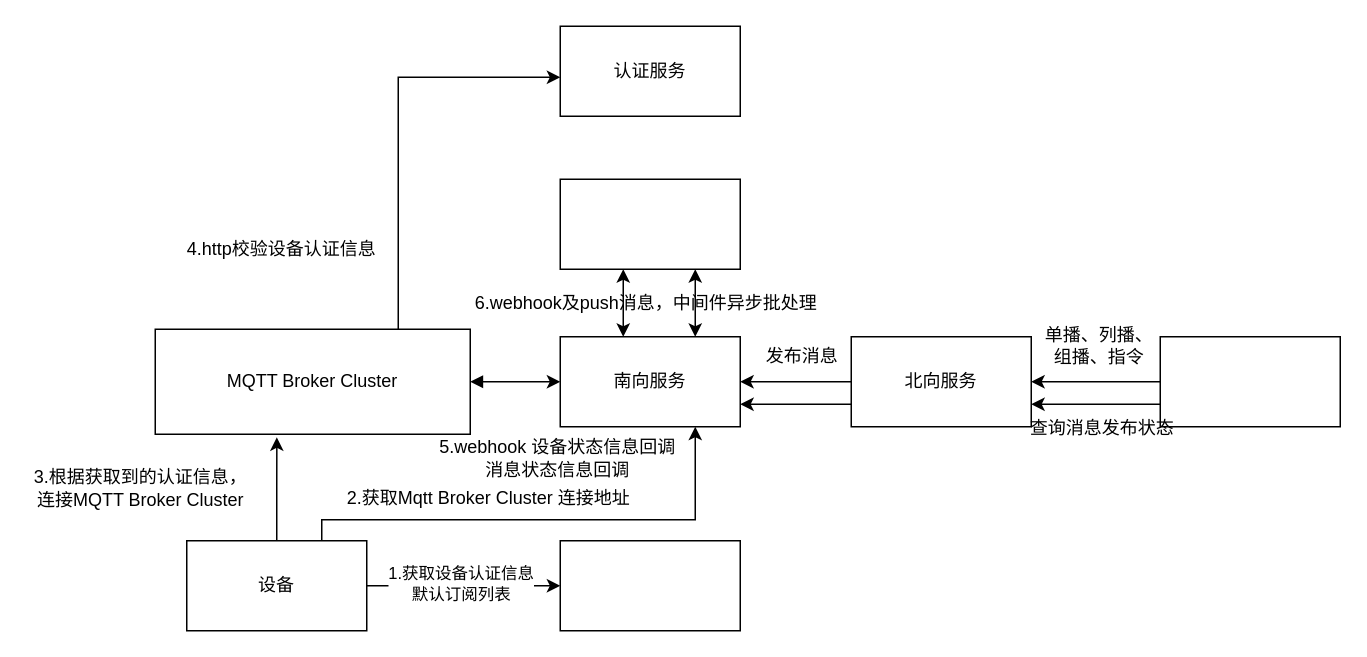
This 1367x657 diagram has some shape labels left out. The shapes that lost their labels are listed below. From the top down, each one's centre as x and y in pixels, then its label:
the point at 649,223: Kafka
the point at 1249,381: 运营管理 Portal
the point at 649,585: 设备服务
